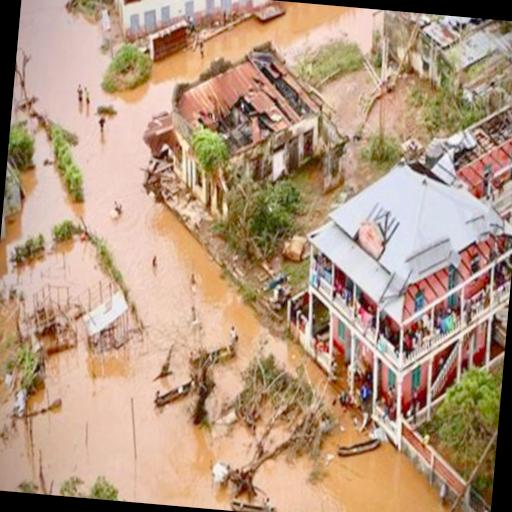flood: (0, 0, 377, 511), (325, 409, 361, 453)
house: (281, 141, 512, 445), (164, 51, 346, 198), (434, 91, 512, 226), (100, 0, 268, 62), (380, 10, 512, 77)
